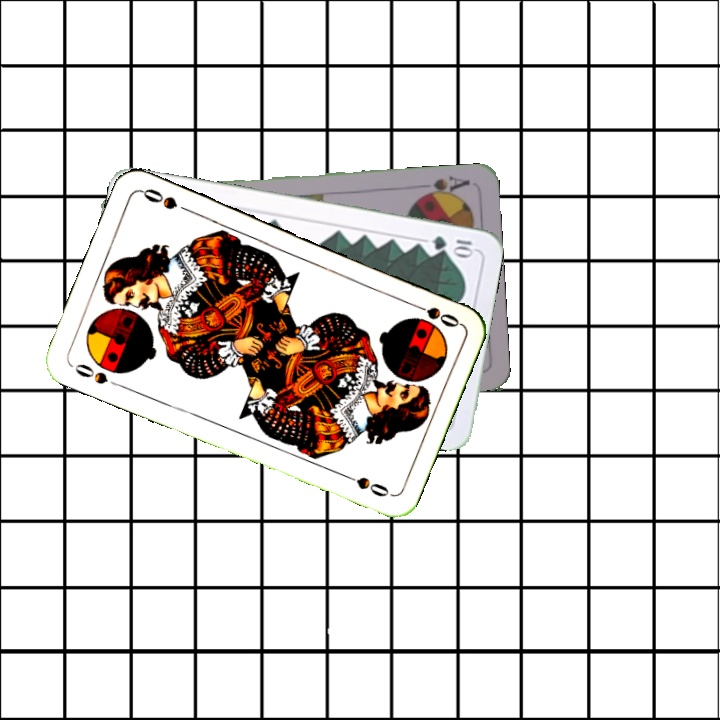G10: (428, 231, 478, 258)
SA: (414, 172, 473, 201)
SO: (406, 298, 462, 330), (67, 359, 124, 390)
